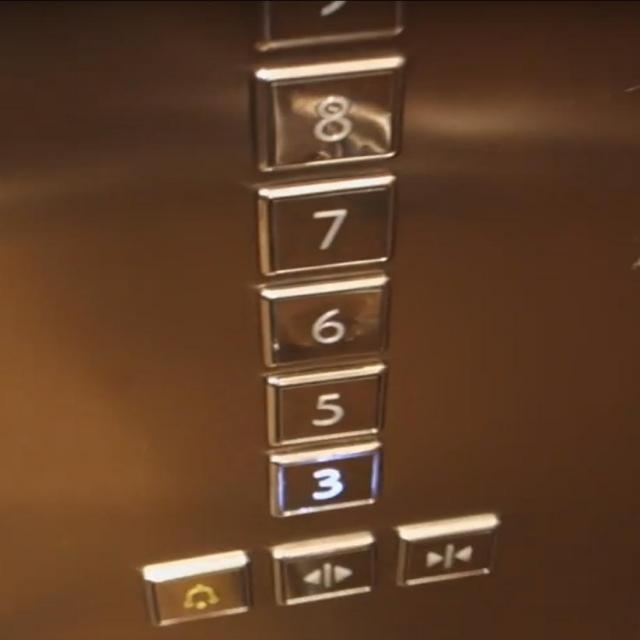3: (269, 441, 381, 516)
5: (268, 358, 388, 446)
6: (260, 272, 390, 369)
7: (258, 168, 401, 276)
8: (248, 52, 411, 176)
alarm: (140, 549, 251, 626)
close: (389, 511, 498, 587)
open: (268, 530, 375, 614)
